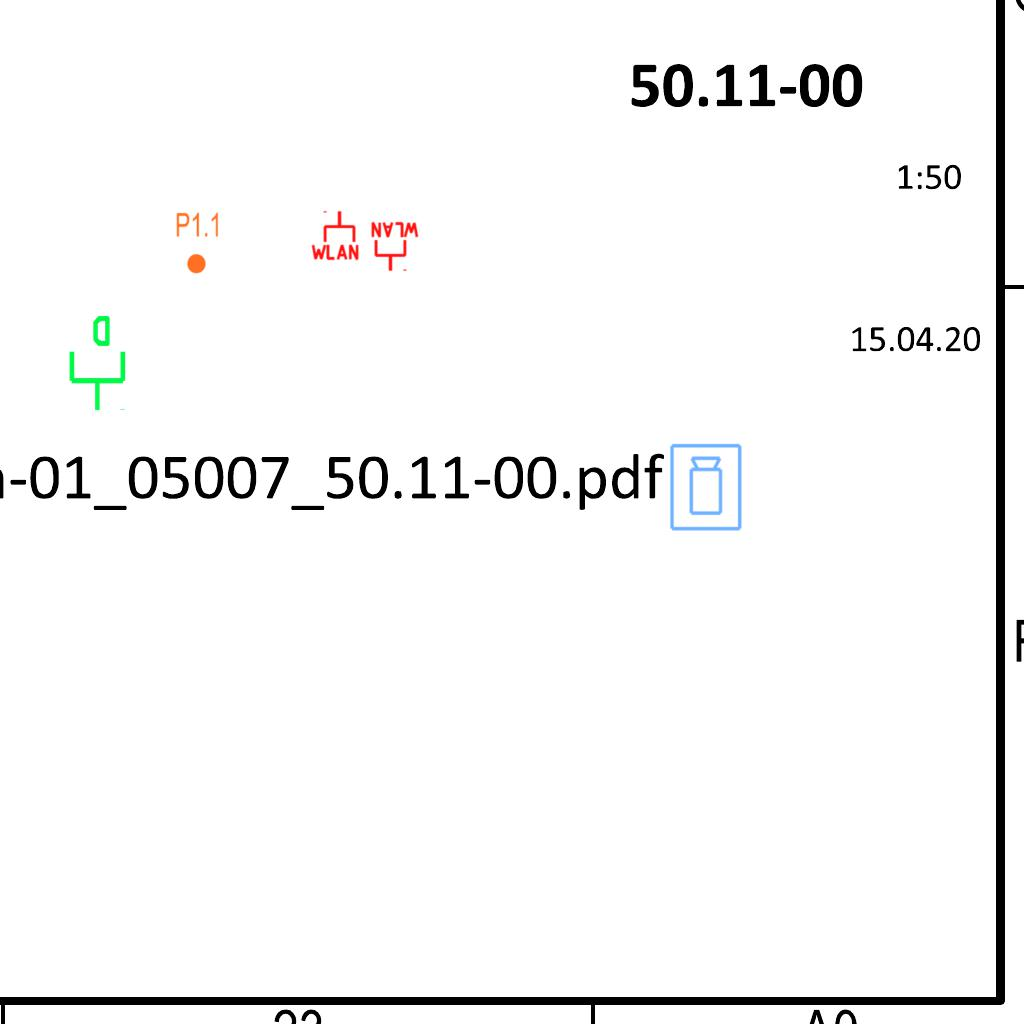Datenanschluss_einfach: (61, 313, 130, 413)
Downlight_LED_Einbauleuchten_Flur: (175, 211, 221, 275)
KFO_Kamera_mit_Festobjektiv: (668, 442, 745, 533)
WLAN: (309, 209, 361, 261), (369, 221, 421, 273)
